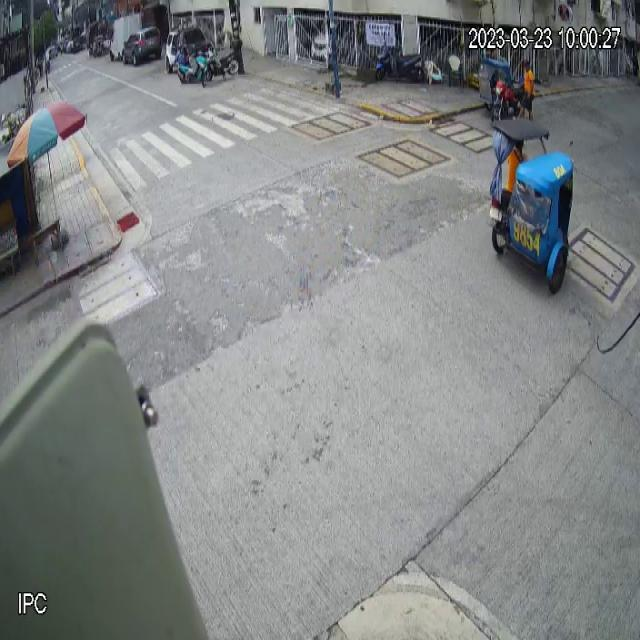Tricycle: (487, 118, 574, 294)
